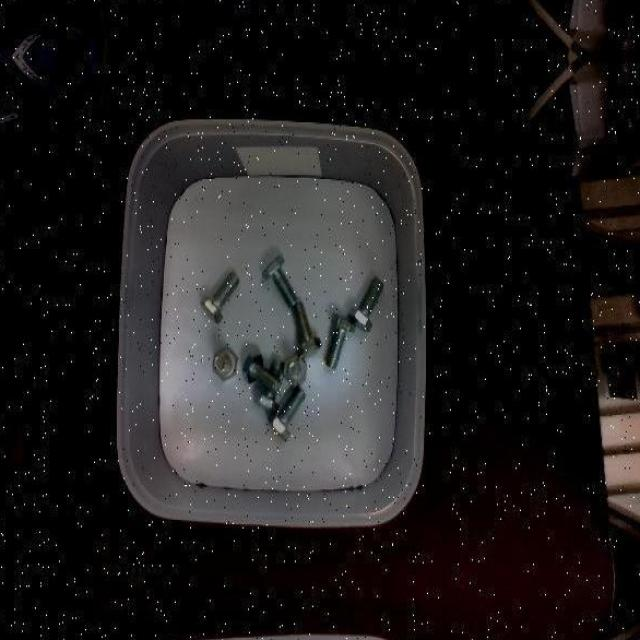screw: (267, 384, 307, 442), (348, 276, 384, 333), (200, 271, 238, 323), (263, 252, 298, 306), (242, 350, 283, 393), (324, 312, 356, 366), (292, 299, 322, 356), (212, 344, 237, 381)
